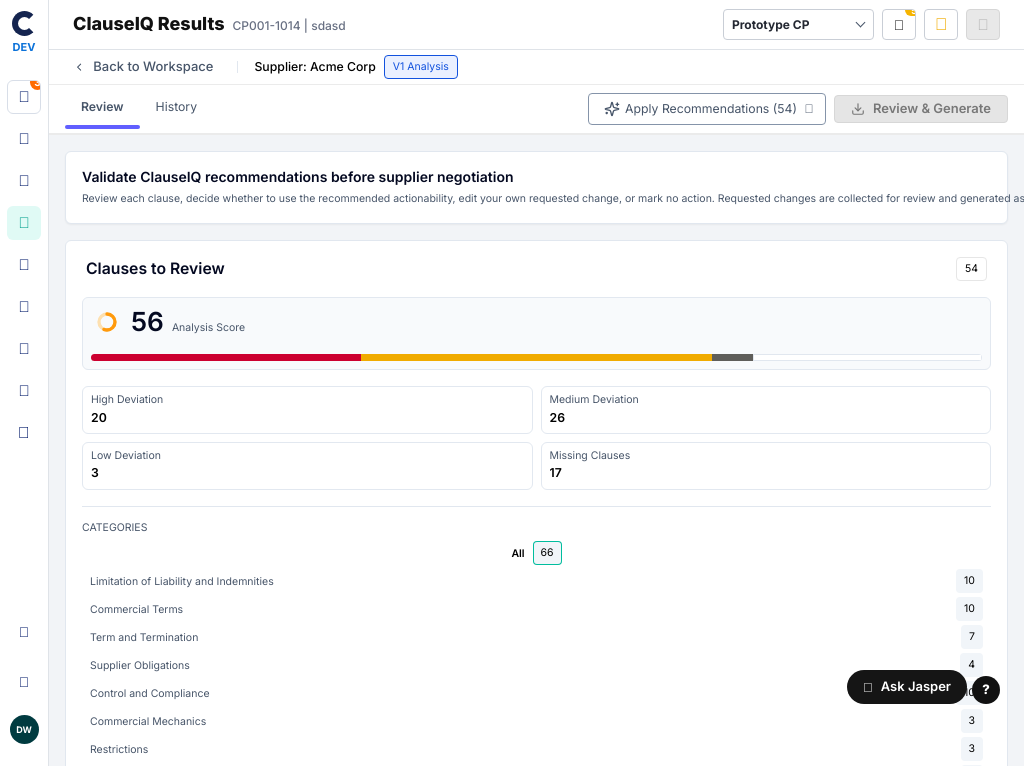
Test: Prototype CP result dashboard › uses CP-specific storage for apply and undo recommendations
The image size is (1036, 766).
Click the button "Apply Recommendations (54) ".
click(707, 109)  # box 588,93 -> 826,125
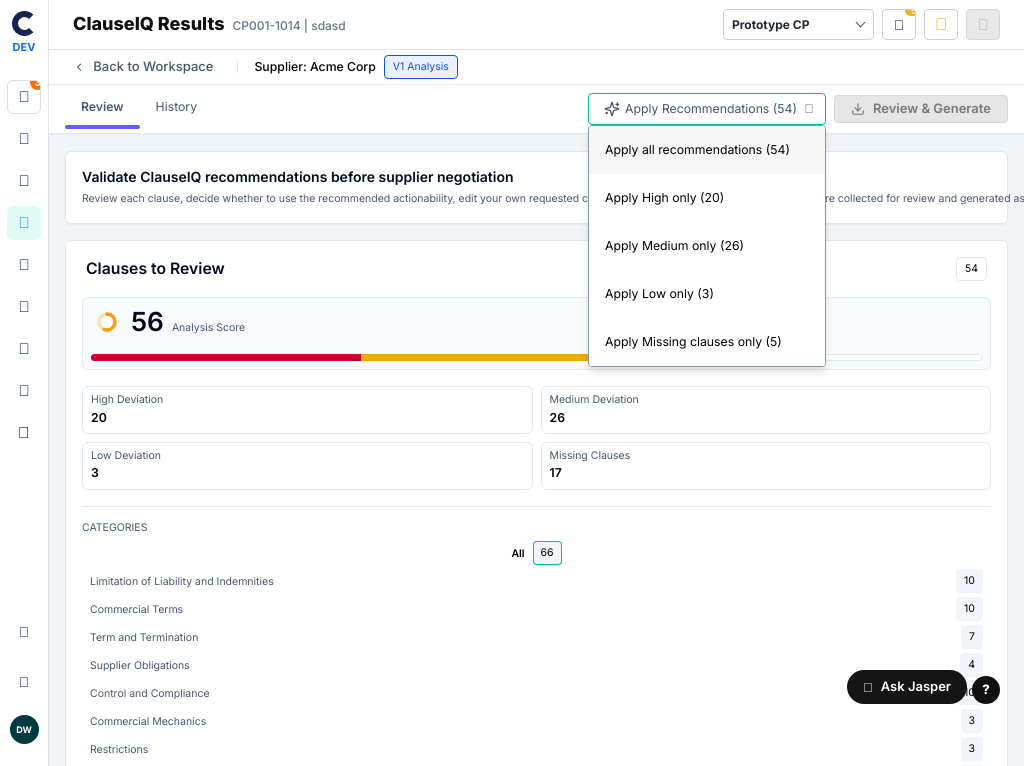
Click the option "Apply High only (20)".
click(707, 198)  # box 589,174 -> 825,222
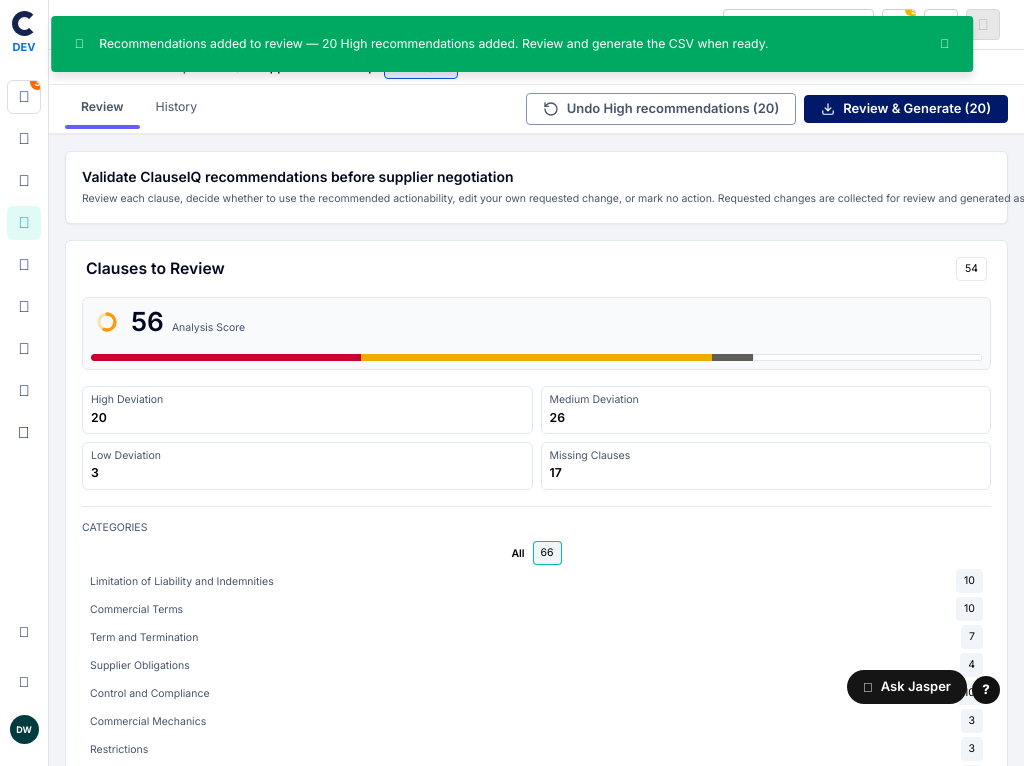
Expected: the button "Undo High recommendations (20)" is shown
Click the button "Undo High recommendations (20)".
click(661, 109)  # box 526,93 -> 796,125
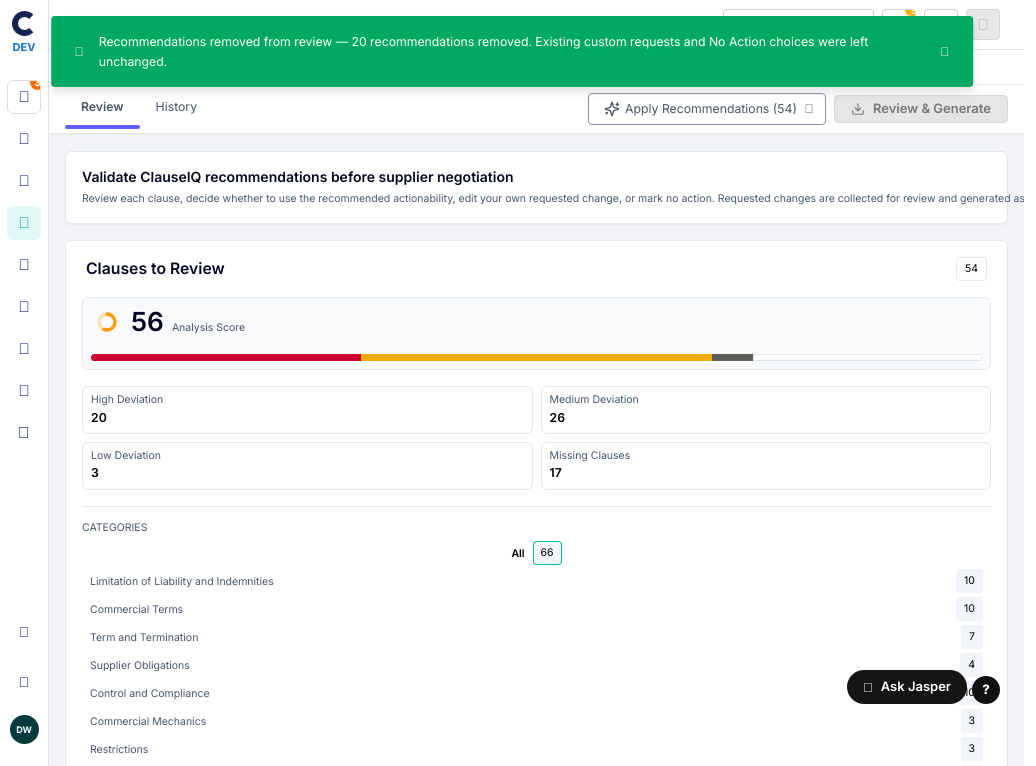
Expected: the button "Undo High recommendations" is gone
Expected: the button "Apply Recommendations (54) " is shown, 588,93 -> 826,125
